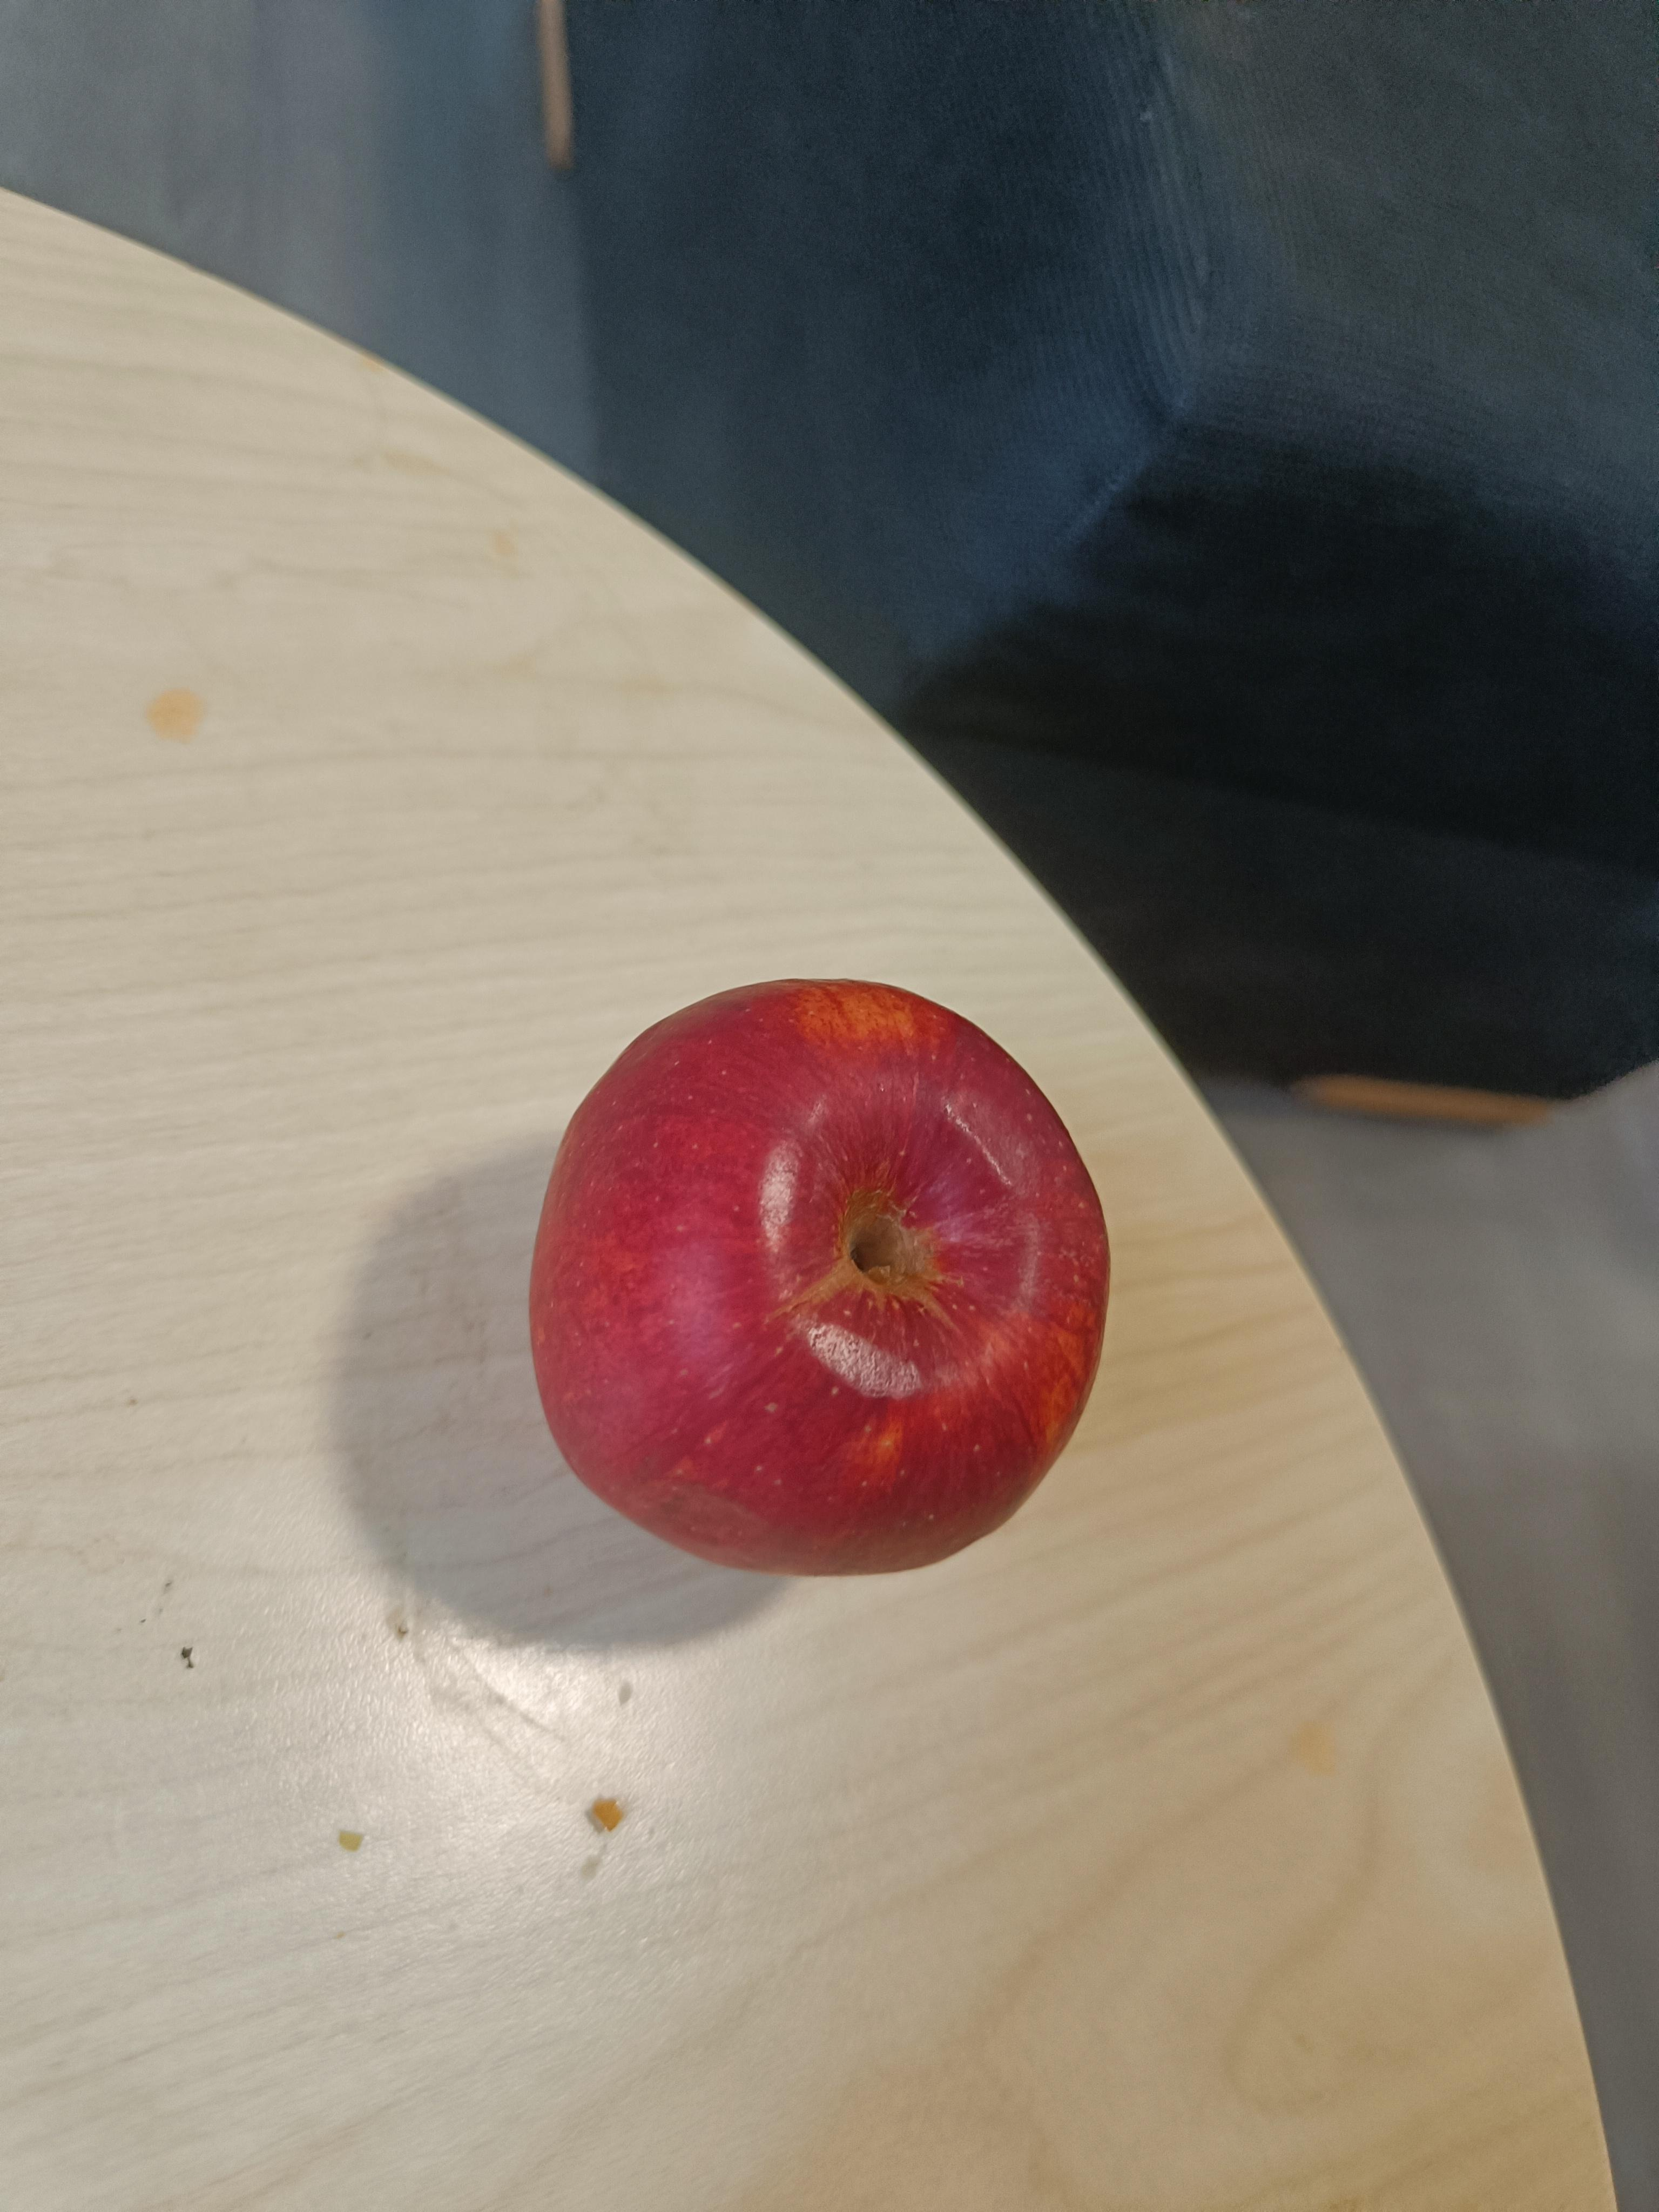Apple: (559, 941, 1140, 1571)
